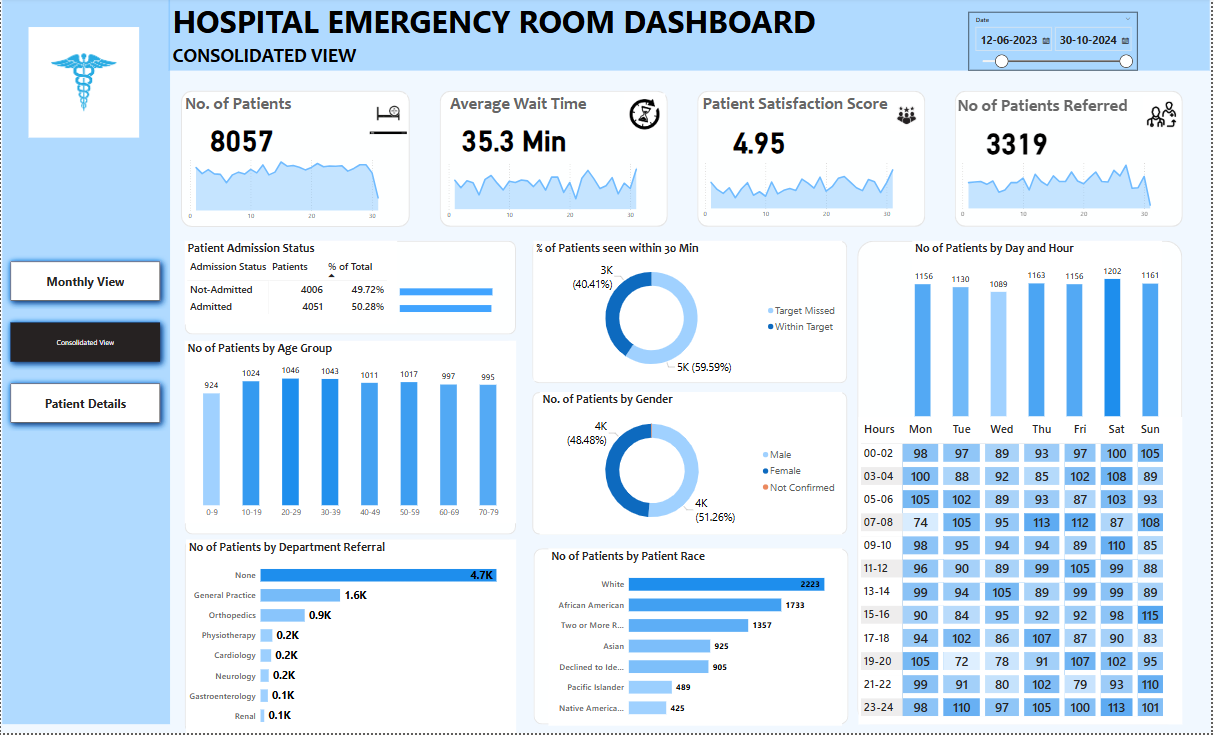

The dashboard page shown, as its layout file describes it:
{"tool":"powerbi","page":{"name":"Consolidated View","canvas":[2300,1400],"ordinal":1},"visuals":[{"type":"shape","box":[2.4,0,319.2,1383.4],"z":0},{"type":"shape","box":[318.6,0,1980.6,140.3],"z":1000},{"type":"textbox","box":[320.5,0,1262.4,106],"z":2000},{"type":"shape","box":[342.4,177.4,435.1,259.2],"z":3000},{"type":"textbox","box":[321.7,82.2,372.5,58],"z":4000},{"type":"card","fields":{"Values":["Hospital ER_Data.No of Patients"]},"box":[382.2,234.2,150.4,64.1],"z":5000},{"type":"slicer","fields":{"Values":["Date Table.Date"]},"box":[1840.5,29,321.7,111.3],"z":6000},{"type":"areaChart","fields":{"Category":["Date Table.Date.Variation.Date Hierarchy.Day"],"Y":["Hospital ER_Data.No of Patients"]},"box":[345.2,298.4,434,138.1],"z":7000},{"type":"textbox","box":[345.2,177.5,266.3,56.7],"z":8000},{"type":"shape","box":[834,177.4,434,258.9],"z":9000},{"type":"card","fields":{"Values":["Hospital ER_Data.Avg Wait time"]},"box":[848.8,235.4,254.4,64.2],"z":10000},{"type":"areaChart","fields":{"Category":["Date Table.Date.Variation.Date Hierarchy.Day"],"Y":["Avg(Hospital ER_Data.Patient Waittime)"]},"box":[837,302,432.7,130.8],"z":11000},{"type":"textbox","box":[849.4,177.2,300.9,56.2],"z":12000},{"type":"shape","box":[1324.4,177.4,434,258.9],"z":13000},{"type":"shape","box":[1814.8,177.4,434,258.9],"z":14000},{"type":"textbox","box":[1329.2,178.3,404.2,57.1],"z":15000},{"type":"card","fields":{"Values":["Hospital ER_Data.Satisfaction Score"]},"box":[1324.7,233.4,236.2,75.9],"z":16000},{"type":"areaChart","fields":{"Category":["Date Table.Date.Variation.Date Hierarchy.Day"],"Y":["Hospital ER_Data.Satisfaction Score"]},"box":[1324.7,300.9,433.1,129.4],"z":17000},{"type":"textbox","box":[1814,180,405,56.2],"z":18000},{"type":"shape","box":[349.5,463.7,630.1,178.3],"z":19000},{"type":"card","fields":{"Values":["Hospital ER_Data.No of Patient Referred"]},"box":[1814,236.2,236.2,75.9],"z":20000},{"type":"areaChart","fields":{"Category":["Date Table.Date.Variation.Date Hierarchy.Day"],"Y":["Hospital ER_Data.No of Patient Referred"]},"box":[1814,300.9,433.1,129.4],"z":21000},{"type":"pivotTable","title":"Patient Admission Status","fields":{"Rows":["Hospital ER_Data.Admission Status"],"Values":["Hospital ER_Data.No of Patients1","Hospital ER_Data.No of Patients"]},"box":[349.5,463.7,404.2,159.3],"z":22000},{"type":"barChart","fields":{"Category":["Hospital ER_Data.Admission Status"],"Y":["Hospital ER_Data.No of Patients"]},"box":[753.7,525.5,271.1,97.5],"z":23000},{"type":"shape","box":[349.5,653.9,630.1,368.5],"z":24000},{"type":"clusteredColumnChart","fields":{"Category":["Hospital ER_Data.Age Group"],"Y":["Hospital ER_Data.No of Patients"]},"box":[349.5,653.9,630.1,347.1],"z":25000},{"type":"shape","box":[349.5,1031.9,630.1,368.5],"z":26000},{"type":"clusteredBarChart","fields":{"Category":["Hospital ER_Data.Department Referral"],"Y":["Hospital ER_Data.No of Patients"]},"box":[351.9,1031.9,627.7,368.5],"z":27000},{"type":"shape","box":[1010.5,463.7,599.2,271.1],"z":28000},{"type":"donutChart","title":"% of Patients seen within 30 Min","fields":{"Category":["Hospital ER_Data.Wait-time Status"],"Y":["Hospital ER_Data.No of Patients"]},"box":[1012.9,463.7,587.3,266.3],"z":29000},{"type":"shape","box":[1010.5,751.4,599.2,271.1],"z":30000},{"type":"donutChart","title":"No. of Patients by Gender","fields":{"Y":["Hospital ER_Data.No of Patients"],"Category":["Hospital ER_Data.Patient Gender"]},"box":[1024.8,751.4,575.4,271.1],"z":31000},{"type":"shape","box":[1012.9,1048.6,599.2,335.3],"z":32000},{"type":"clusteredBarChart","fields":{"Y":["Hospital ER_Data.No of Patients"],"Category":["Hospital ER_Data.Patient Race"]},"box":[1041.4,1048.6,558.8,337.6],"z":33000},{"type":"image","box":[48.4,53.2,220.1,220.1],"z":34000},{"type":"shape","box":[1628.7,463.7,618.2,920.2],"z":35000},{"type":"pivotTable","fields":{"Rows":["Hospital ER_Data.Waittime Interval"],"Columns":["Date Table.Day Name"],"Values":["Hospital ER_Data.No of Patients"]},"box":[1631.1,798.9,615.8,584.9],"z":36000},{"type":"columnChart","title":"No of Patients by Day and Hour","fields":{"Category":["Date Table.Day Name"],"Y":["Hospital ER_Data.No of Patients"]},"box":[1733.4,463.7,475.5,340],"z":37000},{"type":"image","box":[1179.4,178.3,90.4,88],"z":38000},{"type":"image","box":[1688.2,180.7,69,88],"z":39000},{"type":"image","box":[694.1,181.4,84.6,84.6],"z":40000},{"type":"image","box":[2168.5,180.7,78.5,85.6],"z":41000},{"type":"pageNavigator","box":[2.4,488.5,316.8,338.6],"z":42000}]}

Visuals, with their boxes in screenshot pixels (x1, y1, x2, y2), scaled from the page's 2300x1400 canvas onto the 1214x735 screenshot:
shape: [1,0,170,726]
shape: [168,0,1213,74]
textbox: [169,0,835,56]
shape: [181,93,410,229]
textbox: [170,43,366,74]
card - Hospital ER_Data.No of Patients: [202,123,281,157]
slicer - Date Table.Date: [971,15,1141,74]
areaChart - Date Table.Date.Variation.Date Hierarchy.Day x Hospital ER_Data.No of Patients: [182,157,411,229]
textbox: [182,93,323,123]
shape: [440,93,669,229]
card - Hospital ER_Data.Avg Wait time: [448,124,582,157]
areaChart - Date Table.Date.Variation.Date Hierarchy.Day x Avg(Hospital ER_Data.Patient Waittime): [442,159,670,227]
textbox: [448,93,607,123]
shape: [699,93,928,229]
shape: [958,93,1187,229]
textbox: [702,94,915,124]
card - Hospital ER_Data.Satisfaction Score: [699,123,824,162]
areaChart - Date Table.Date.Variation.Date Hierarchy.Day x Hospital ER_Data.Satisfaction Score: [699,158,928,226]
textbox: [957,94,1171,124]
shape: [184,243,517,337]
card - Hospital ER_Data.No of Patient Referred: [957,124,1082,164]
areaChart - Date Table.Date.Variation.Date Hierarchy.Day x Hospital ER_Data.No of Patient Referred: [957,158,1186,226]
"Patient Admission Status" pivotTable: [184,243,398,327]
barChart - Hospital ER_Data.Admission Status x Hospital ER_Data.No of Patients: [398,276,541,327]
shape: [184,343,517,537]
clusteredColumnChart - Hospital ER_Data.Age Group x Hospital ER_Data.No of Patients: [184,343,517,526]
shape: [184,542,517,734]
clusteredBarChart - Hospital ER_Data.Department Referral x Hospital ER_Data.No of Patients: [186,542,517,734]
shape: [533,243,850,386]
"% of Patients seen within 30 Min" donutChart: [535,243,845,383]
shape: [533,394,850,537]
"No. of Patients by Gender" donutChart: [541,394,845,537]
shape: [535,551,851,727]
clusteredBarChart - Hospital ER_Data.No of Patients x Hospital ER_Data.Patient Race: [550,551,845,728]
image: [26,28,142,143]
shape: [860,243,1186,727]
pivotTable - Hospital ER_Data.Waittime Interval x Date Table.Day Name: [861,419,1186,726]
"No of Patients by Day and Hour" columnChart: [915,243,1166,422]
image: [623,94,670,140]
image: [891,95,927,141]
image: [366,95,411,140]
image: [1145,95,1186,140]
pageNavigator: [1,256,168,434]
